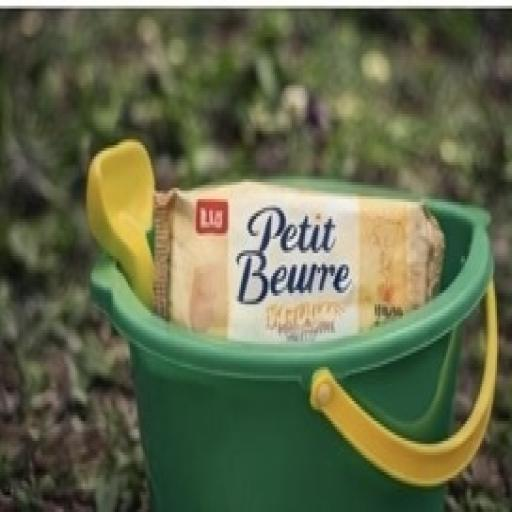petit_beurre: (117, 128, 473, 443)
